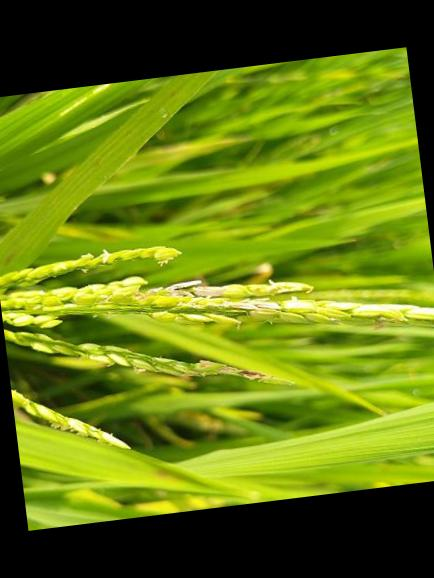Panicle Blight: (101, 347, 292, 385), (170, 300, 318, 323), (164, 279, 224, 298)
